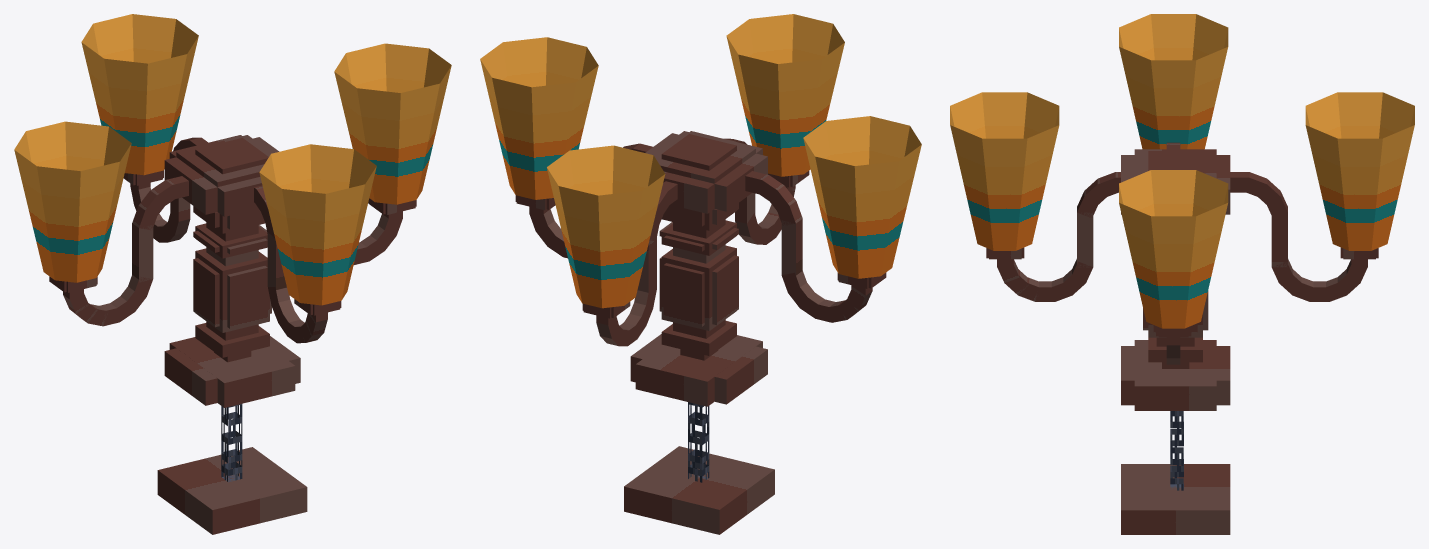
File: ceiling_lights.gltf
3 views of the same model, side by side, from view 1: azimuth 30°, elevation 25°; view 2: azimuth 150°, elevation 25°; view 3: azimuth 270°, elevation 25° (orthographic).
Visible parts, largest first — view 1: glass (×4), cube (×17); view 2: glass (×4), cube (×17); view 3: glass (×4), cube (×10).
Part boxes in pixels (x1,y1,x2,y2): glass (×4): (14,14,451,305); cube (×17): (132,135,307,534); glass (×4): (480,14,921,308); cube (×17): (624,131,802,534); glass (×4): (950,14,1414,328); cube (×10): (1077,150,1287,534).
Size of the model in its own units: 0.5469 by 0.5 by 0.5312.
Materials: 4 (4 with a texture image).
